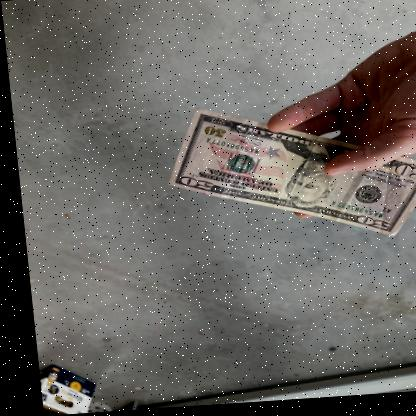fifty-front: (162, 108, 416, 241)
